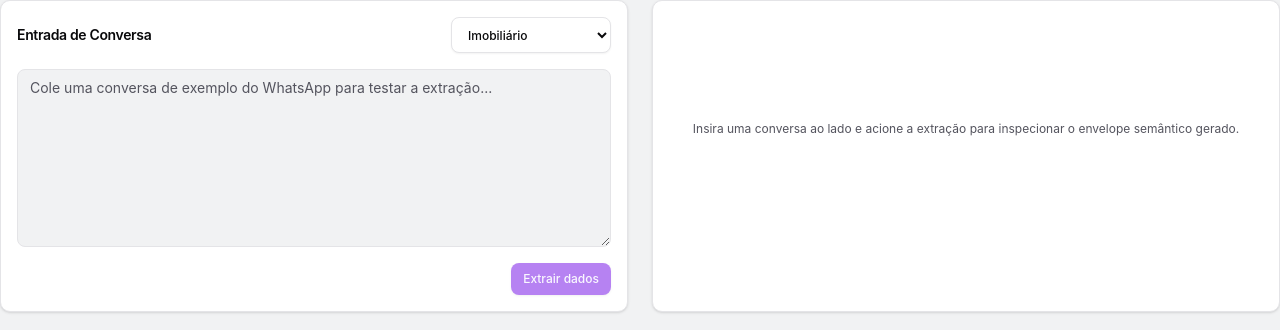
PlaygroundSplitPane › calls onExtract and displays extraction result and processing time
Replace the text in the text box with placeholder "Cole uma conversa de exemplo" with "Cliente: Procuro apartamento no Leblon até R$ 850.000" at (314, 158), box [17,69,611,247]
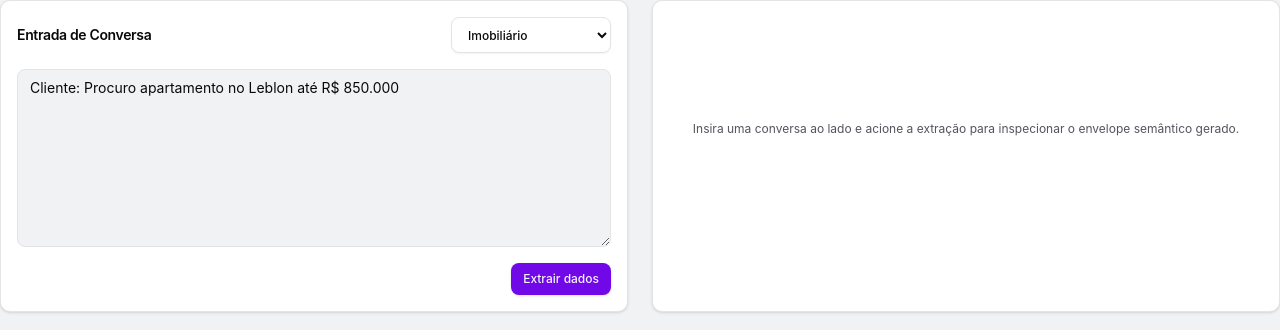
Result: the button "Extrair dados" is enabled
Click the button "Extrair dados" at (561, 279), box [511,263,611,295]
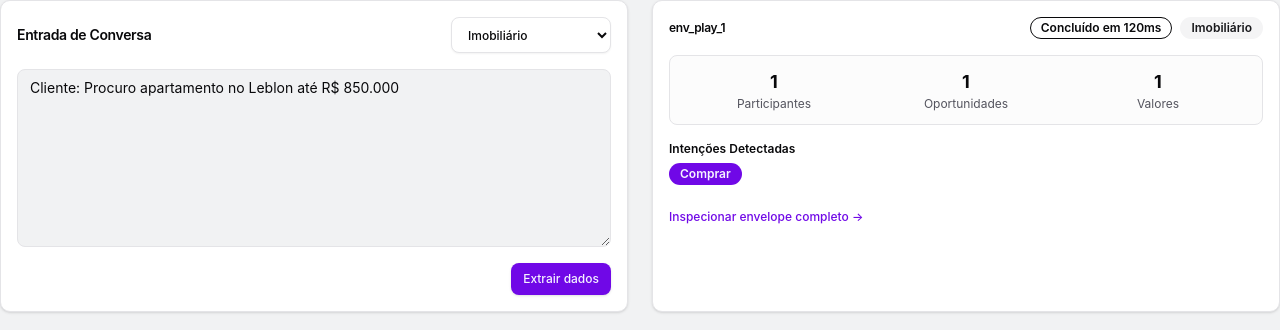
Result: the text "Concluído em 120ms" is shown at [1030,17,1172,39]
Result: the heading "env_play_1" is shown at [669,20,725,36]
